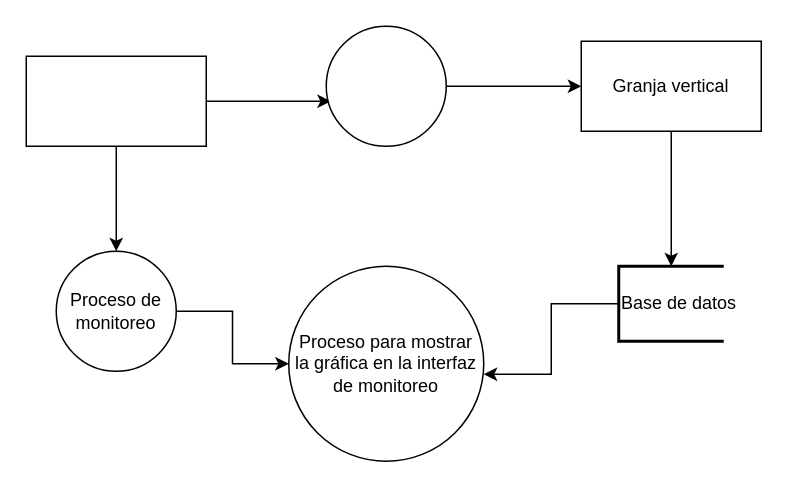
Some shapes in this 788 by 488 pixel diagram are drawn without their labels. Here are the shapes that lost their labels. From the top down, the centre of each, then its label:
At point (115, 100): "Sistema de control y monitoreo".
At point (385, 85): "Proceso de cambio de variables".
